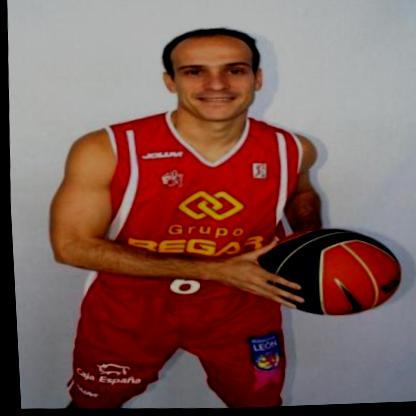basketball: (252, 227, 403, 325)
